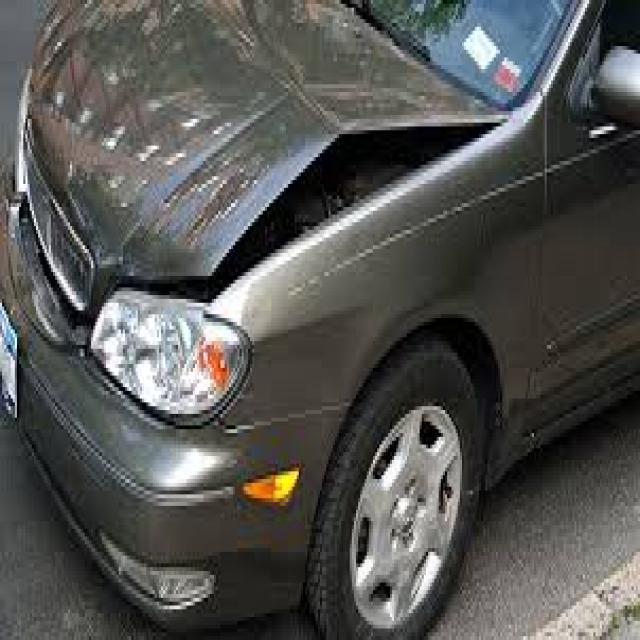minor: (4, 8, 400, 353)
